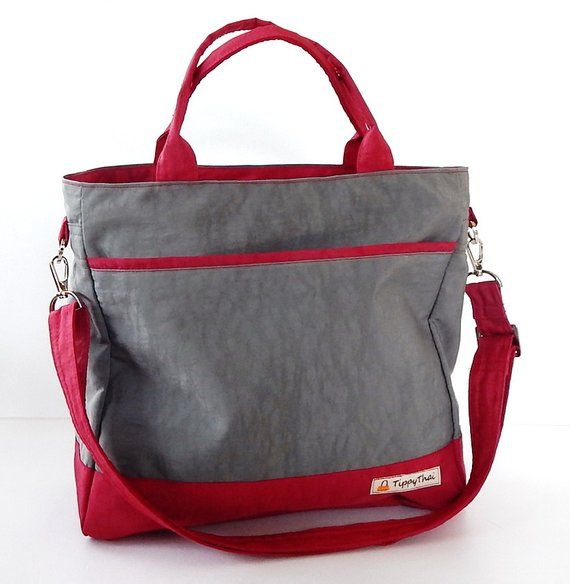nylon: (49, 18, 518, 559)
